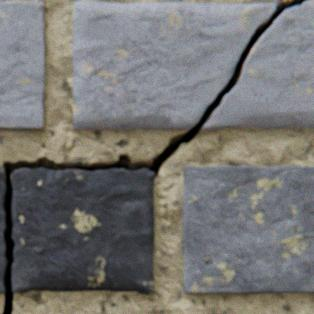brick: (181, 166, 313, 294), (0, 3, 44, 131)
broken_brick: (72, 3, 282, 130), (12, 168, 154, 294), (200, 3, 313, 130), (0, 166, 6, 293)
crack: (1, 0, 312, 313)
